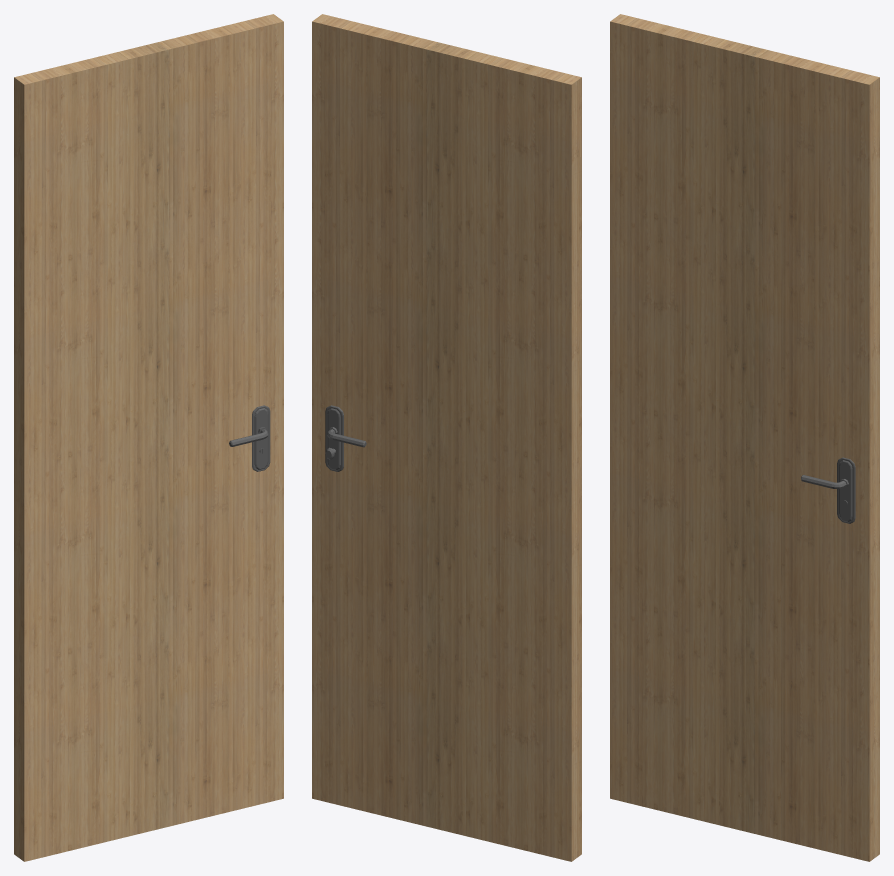
File: smallerdoor.fbx
3 renders of one model, left to right at view 1: azimuth 30°, elevation 25°; view 2: azimuth 150°, elevation 25°; view 3: azimuth 330°, elevation 25°, orthographic.
Parts seen in each view (by area): view 1: polySurface412; view 2: polySurface412; view 3: polySurface412.
Part boxes in pixels (x1,y1,x2,y2): polySurface412: (14,14,283,861); polySurface412: (312,14,581,861); polySurface412: (610,14,879,861).
Size of the model in its own units: 9.7 by 27.76 by 1.81.
Materials: 2 (1 with a texture image).
